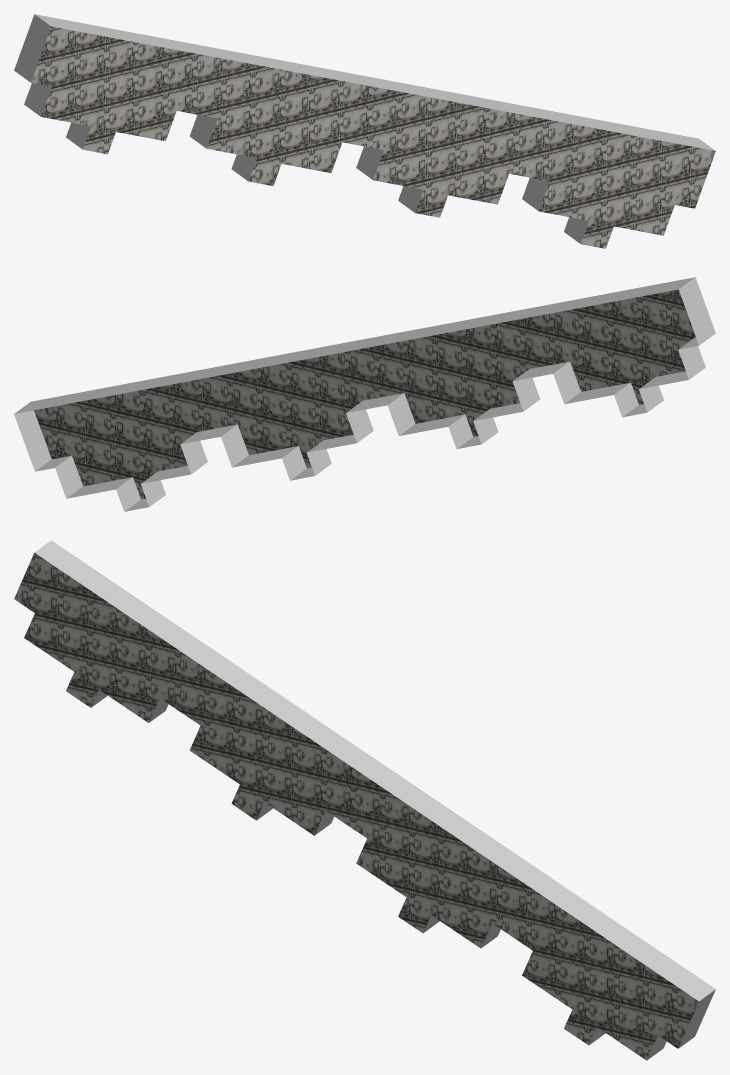
File: geospecific_49.obj
3 renders of one model, top to bottom at view 1: azimuth 30°, elevation 25°; view 2: azimuth 150°, elevation 25°; view 3: azimuth 330°, elevation 25°, orthographic.
Parts seen in each view (by area): view 1: Building; view 2: Building; view 3: Building.
Boxes of the visible parts, x1,y1,x2,y2 form: Building: [14, 14, 715, 248]; Building: [14, 277, 715, 511]; Building: [14, 540, 715, 1060].
Size of the model in its own units: 70.25 by 35.15 by 3.
